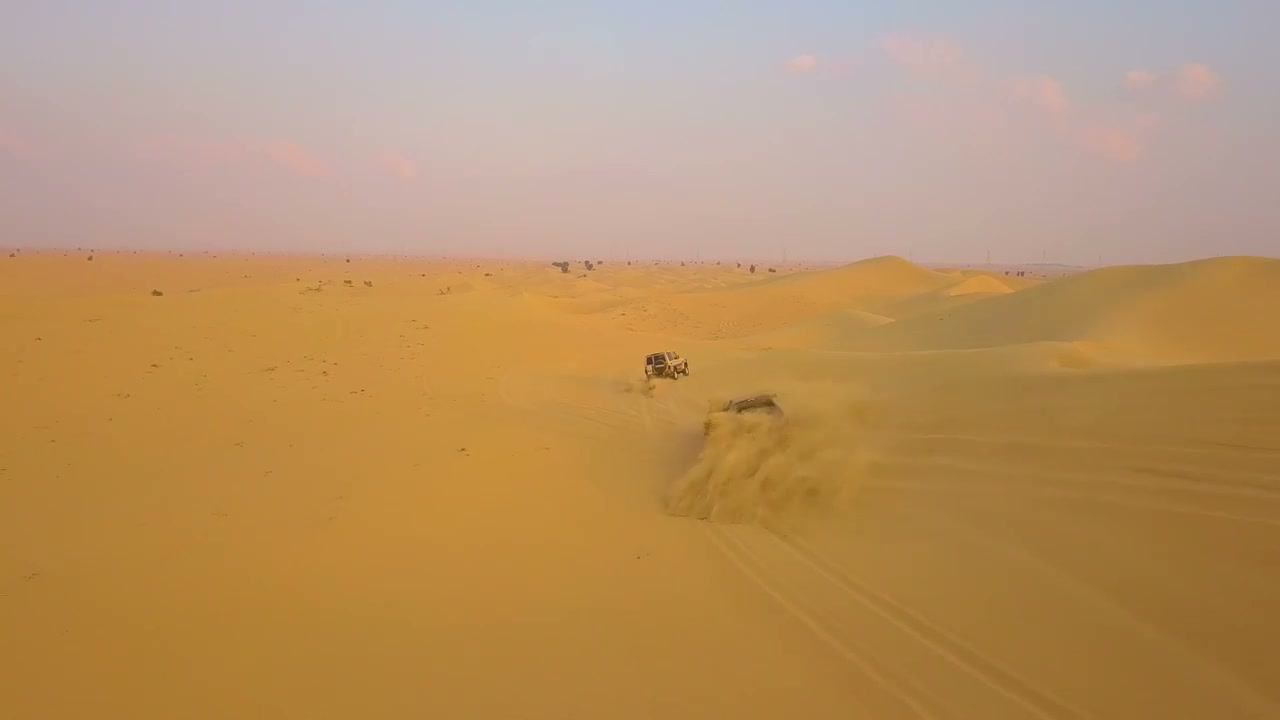vehicle_track: (701, 522, 1083, 719), (779, 536, 1080, 719), (700, 522, 940, 719), (865, 471, 1279, 527), (892, 456, 1279, 501), (497, 372, 675, 437)
